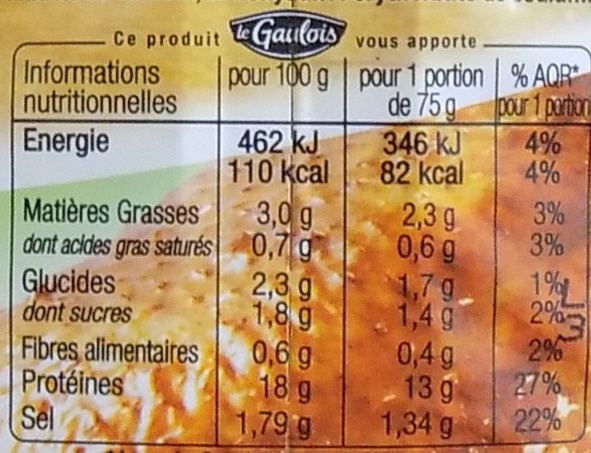column: (19, 57, 214, 435), (357, 59, 484, 439), (229, 55, 329, 441), (499, 61, 585, 437)
table: (11, 34, 585, 450)
